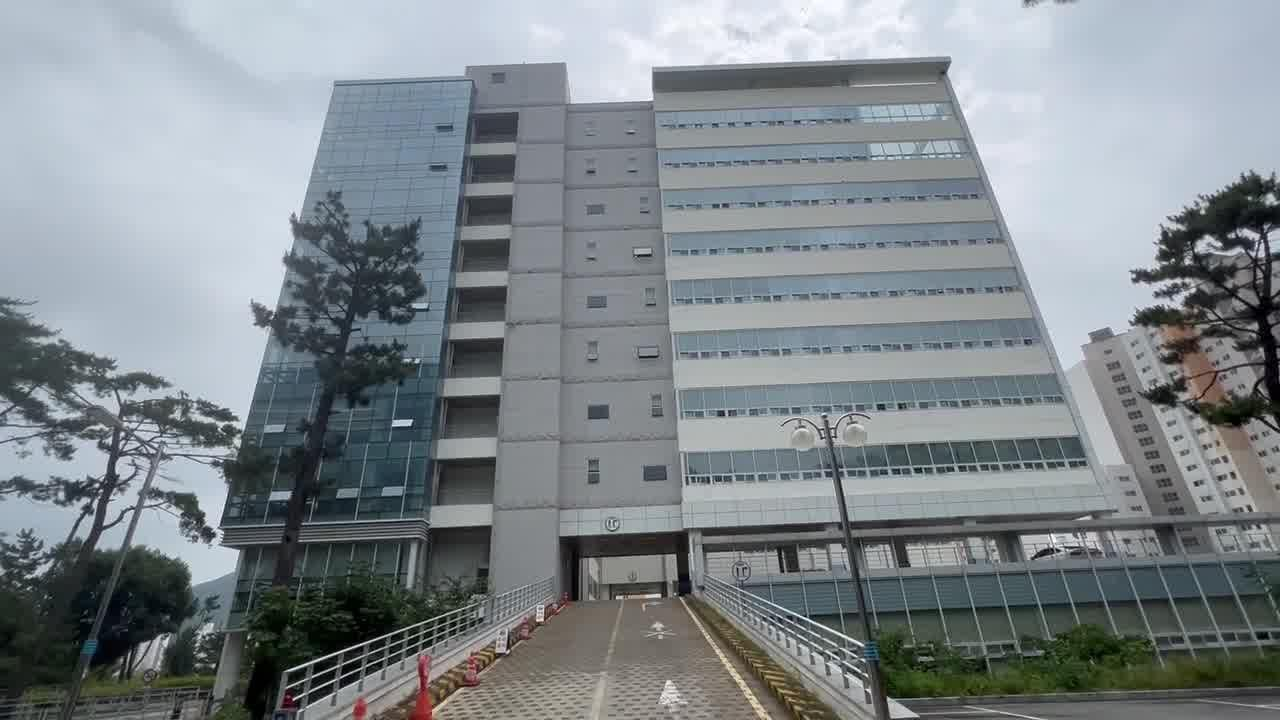building: (444, 41, 1079, 518)
